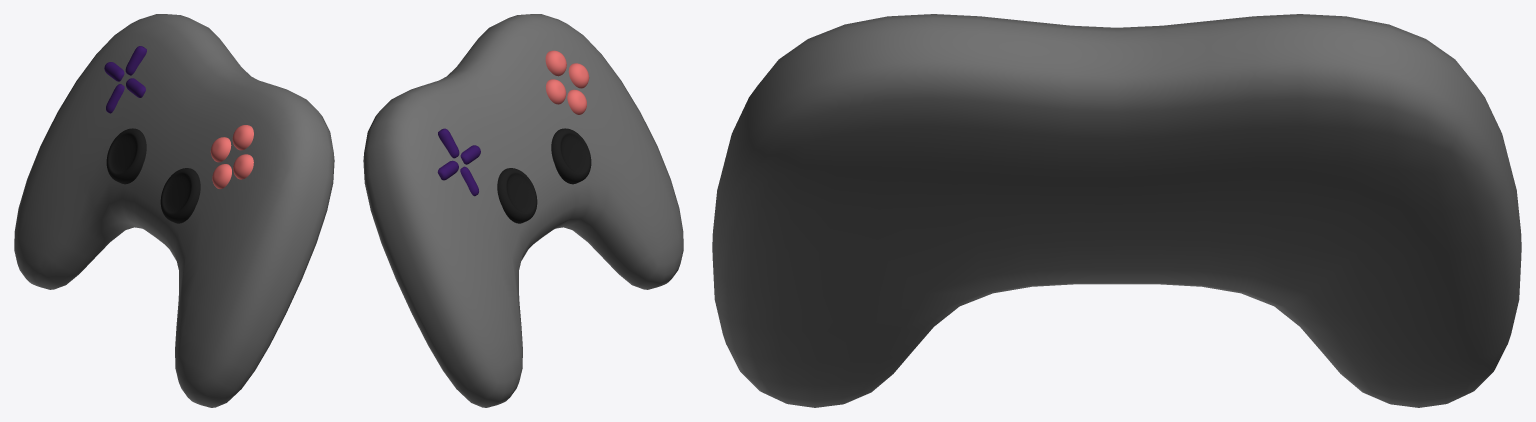
Rendered from game1.glb.
3 views of the same model, side by side, from view 1: azimuth 30°, elevation 25°; view 2: azimuth 150°, elevation 25°; view 3: azimuth 270°, elevation 25° (orthographic). The views are drawn at different scales.
Visible parts, largest first — view 1: game controller; view 2: game controller; view 3: game controller.
Part boxes in pixels (x1,y1,x2,y2): game controller: (14,14,334,407); game controller: (363,14,683,407); game controller: (712,14,1521,407).
Bounding box in the file's own units: 0.8119 × 1.28 × 1.92.
